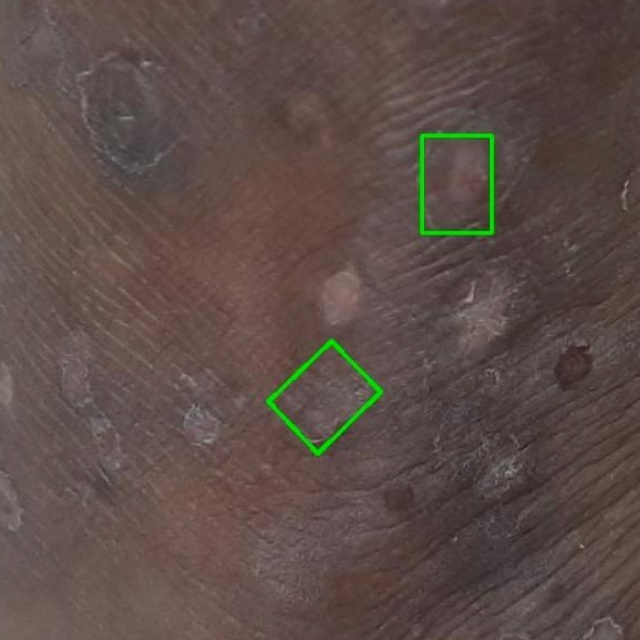Contact Dermatitis: (269, 341, 381, 453), (421, 135, 491, 232)
